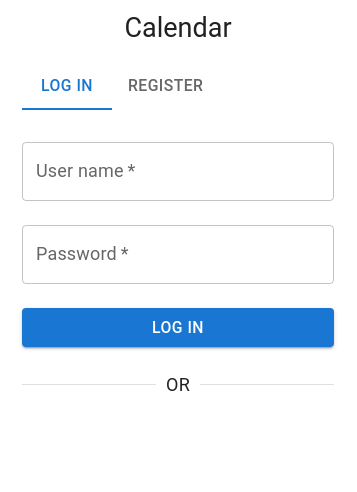
it: LoginForm › näyttää virheilmoituksen, jos rekisteröinti epäonnistuu
Click the tab "Register" at {"x": 166, "y": 86}, box [112, 62, 219, 110]
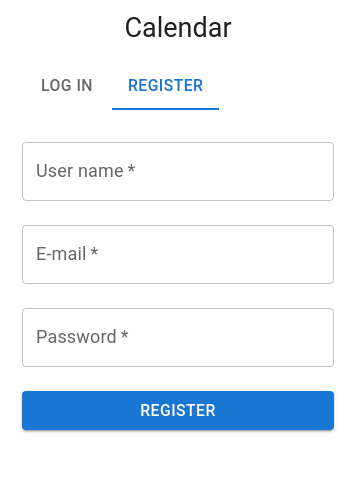
Type "uusi" into the field labelled "User name *" at {"x": 178, "y": 171}, box [22, 142, 334, 201]
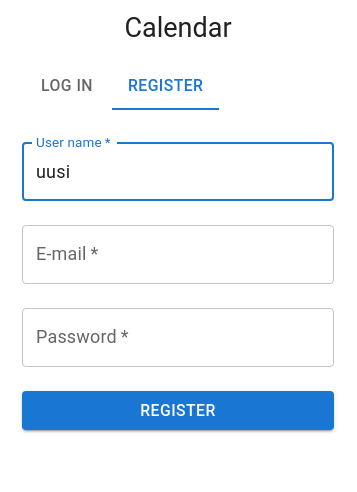
Type "uusi@example.com" into the field labelled "E-mail *" at {"x": 178, "y": 254}, box [22, 225, 334, 284]
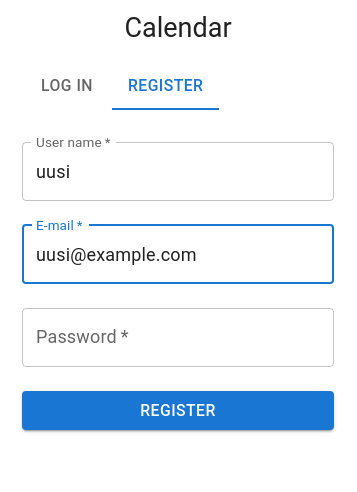
Type "salasana" into the password field labelled "Password *" at {"x": 178, "y": 337}, box [22, 308, 334, 367]
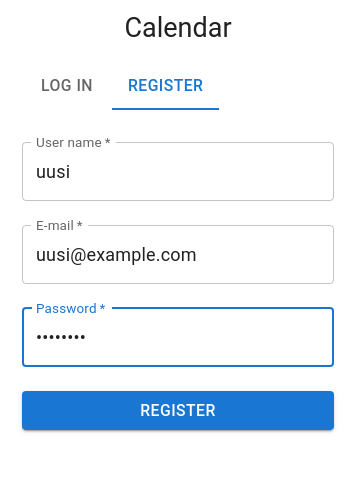
Click the button "Register" at {"x": 178, "y": 410}, box [22, 391, 334, 430]
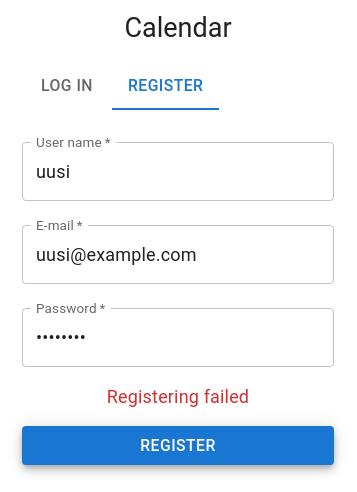
Expected: the text "Registering failed" is shown, [107, 386, 249, 407]
